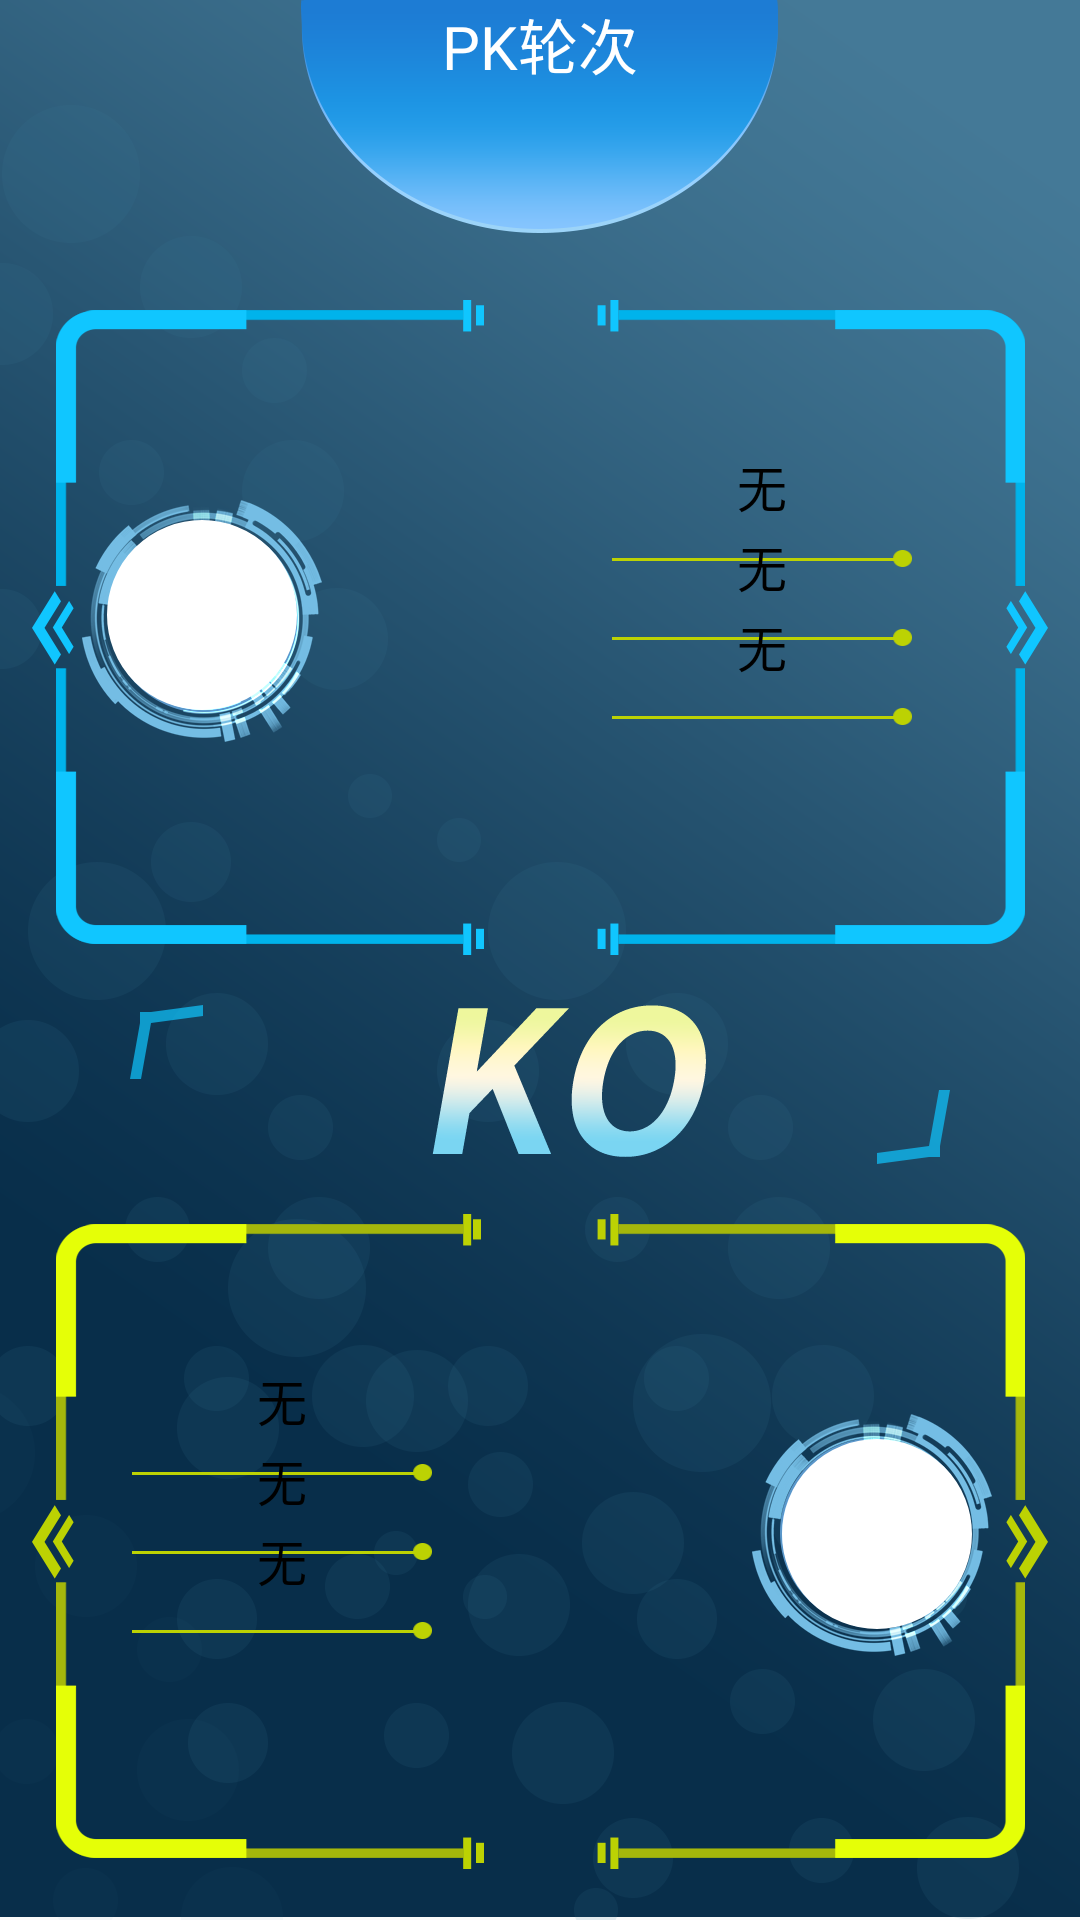

Point at icon controls on the screen. Image size 1080px×1920px, points as (x,y).
player head: (202,621), (872,1535)
